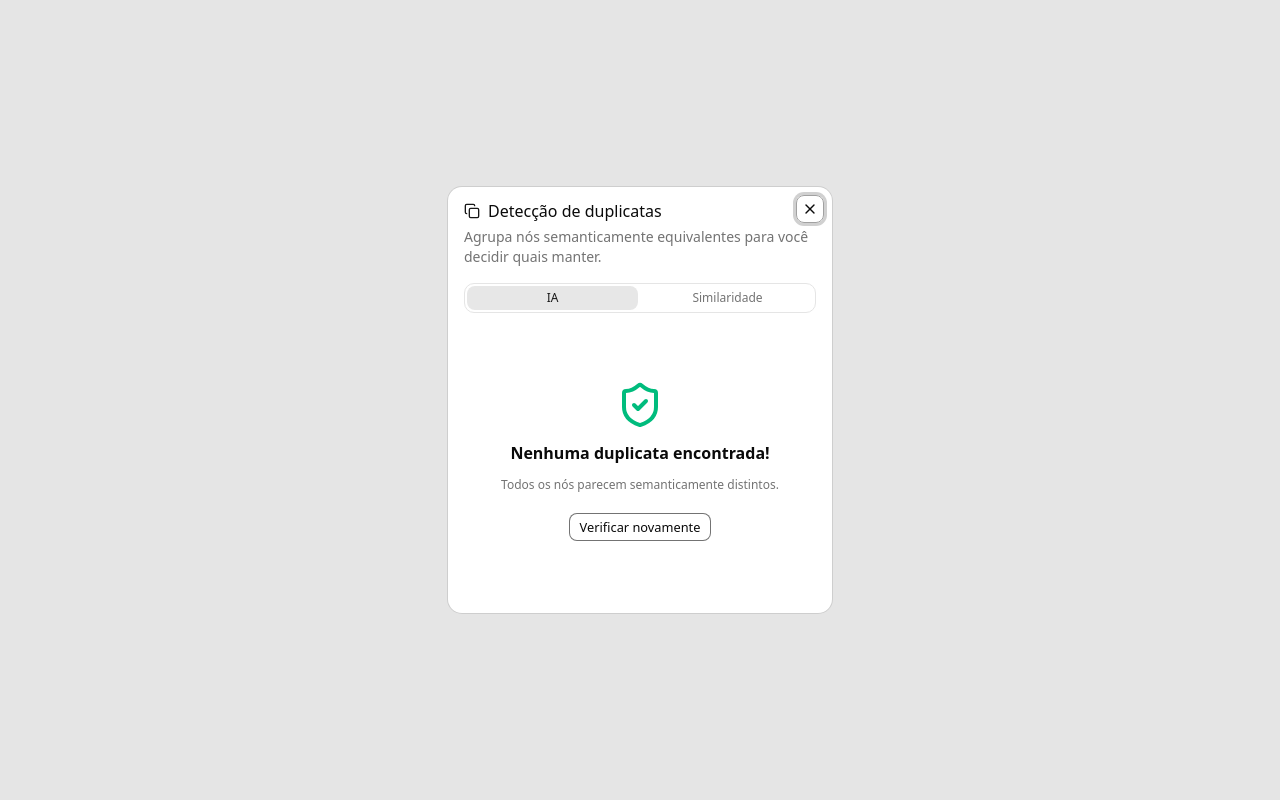
Test: DuplicatesModal › switches to the similarity detector when the toggle is used
Expected: the text "Nenhuma duplicata encontrada!" is shown, x1=510 y1=441 x2=770 y2=465
Click the button "Similaridade" at (728, 298), box x1=642 y1=286 x2=813 y2=310
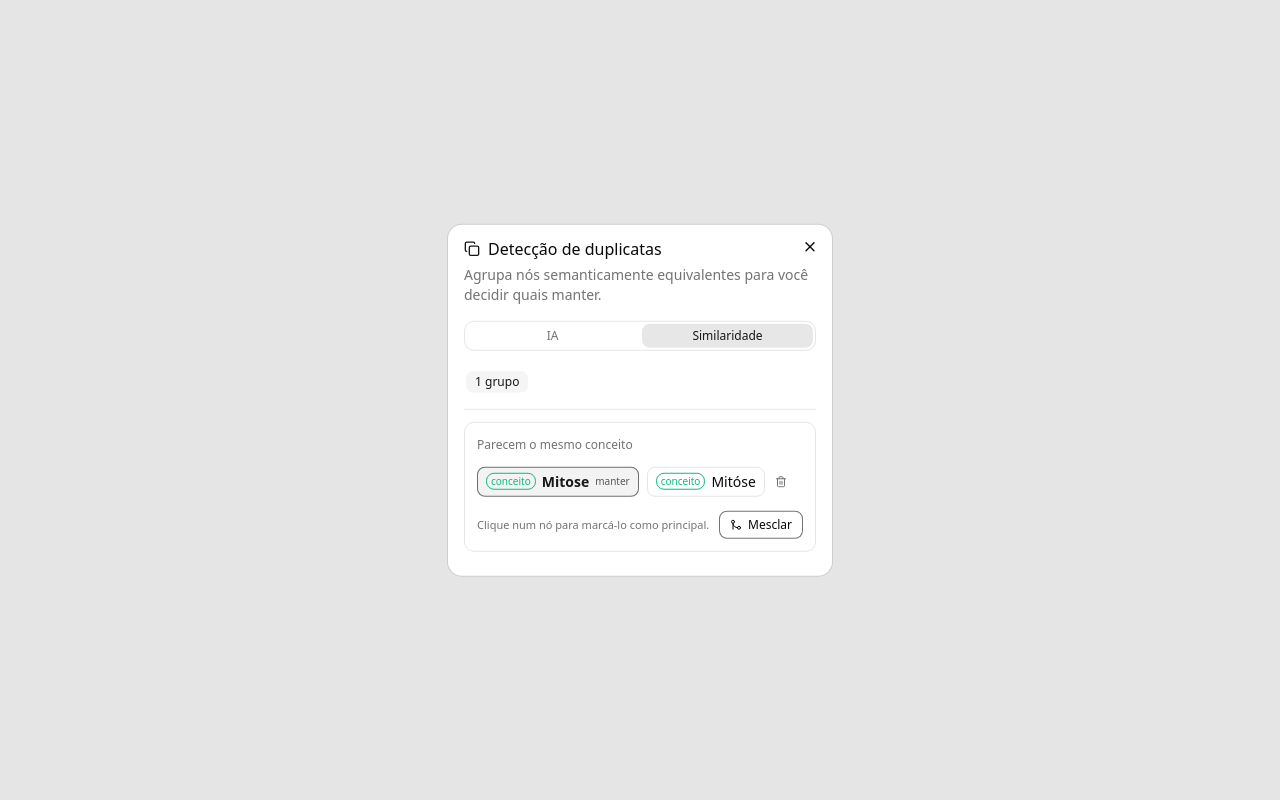
Result: the text "Mitóse" is shown at x1=711 y1=471 x2=756 y2=491
